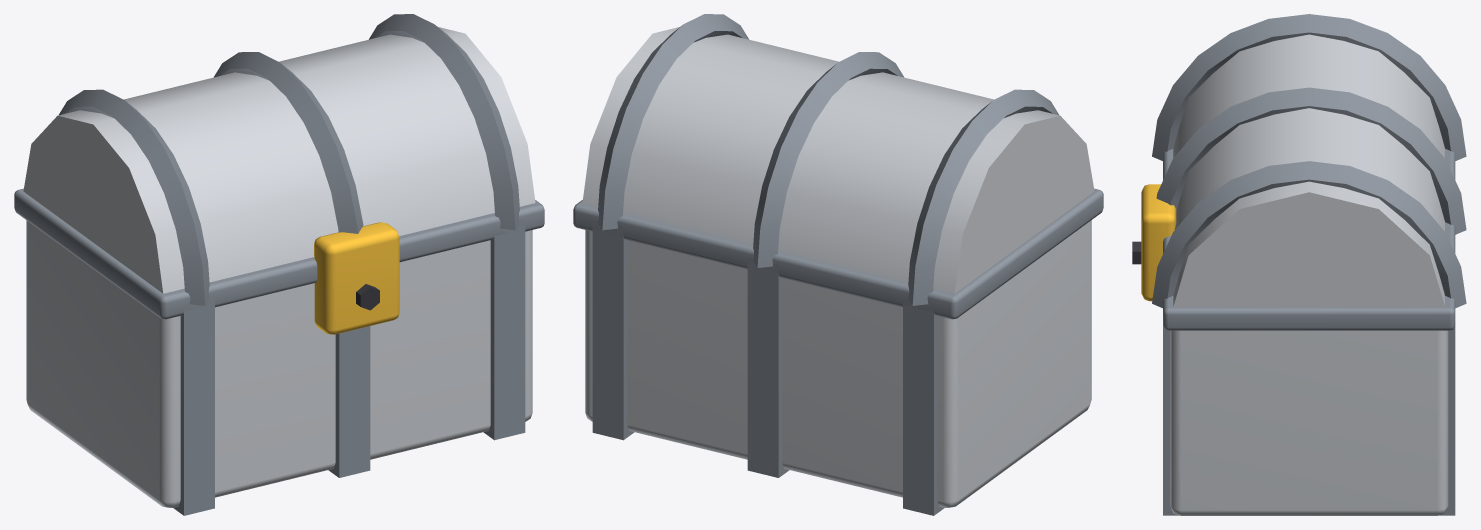
File: IronChest.fbx
3 renders of one model, left to right at view 1: azimuth 30°, elevation 25°; view 2: azimuth 150°, elevation 25°; view 3: azimuth 270°, elevation 25°, orthographic. The views are drawn at different scales.
Visible parts, largest first — view 1: IronChest; view 2: IronChest; view 3: IronChest.
Part boxes in pixels (<box>): IronChest: <box>14,14,544,515</box>; IronChest: <box>573,14,1103,515</box>; IronChest: <box>1132,14,1466,515</box>.
Size of the model in its own units: 3.1 by 2.75 by 2.4.
Materials: 1 (1 with a texture image).
